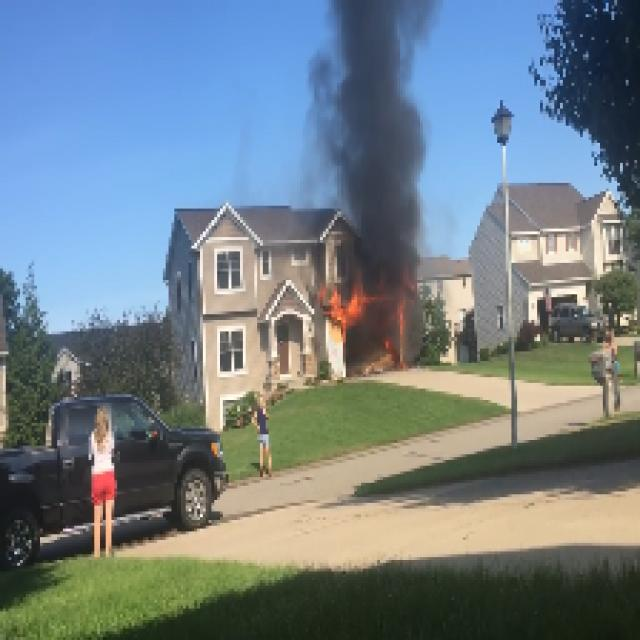smoke: (337, 2, 418, 255)
